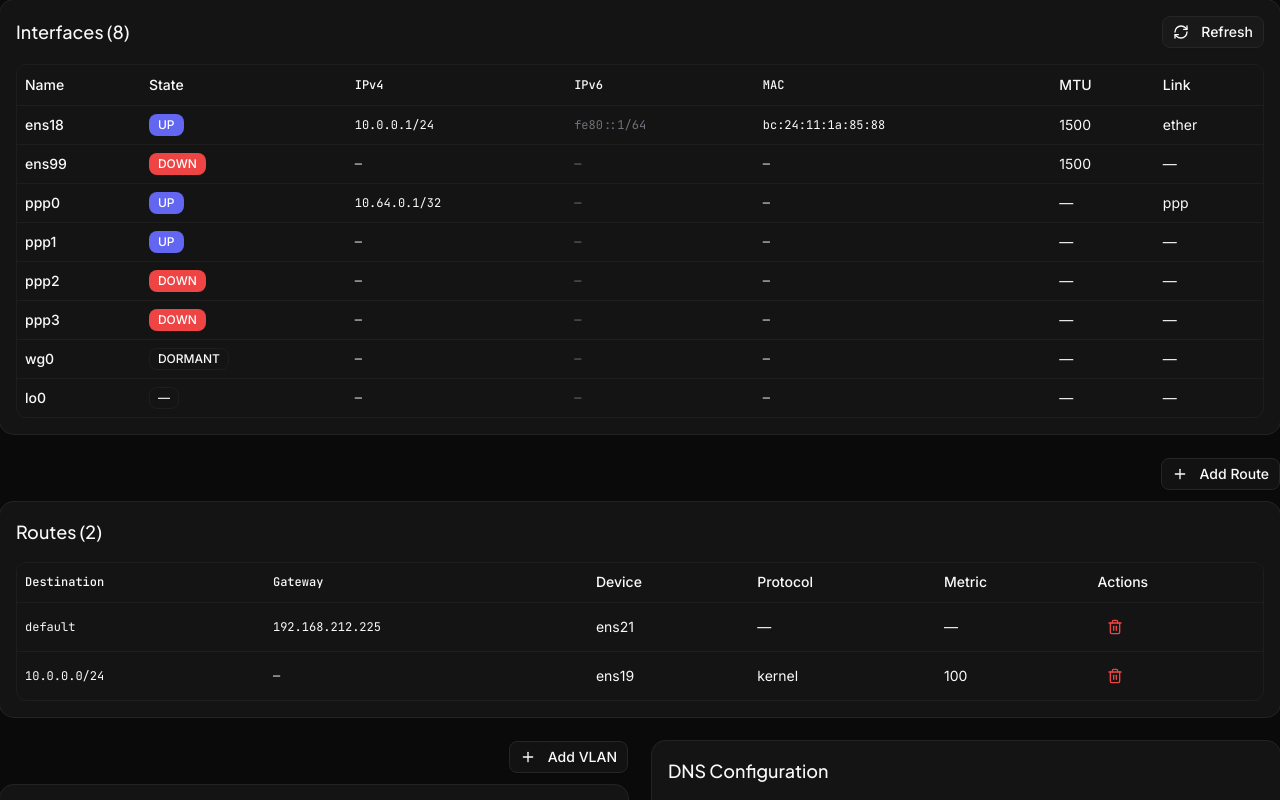
Test: NetworkPage — route CRUD › validates required destination/gateway and the optional metric
Click the button "Add Route" at {"x": 1220, "y": 474}, box [1160,458,1279,490]
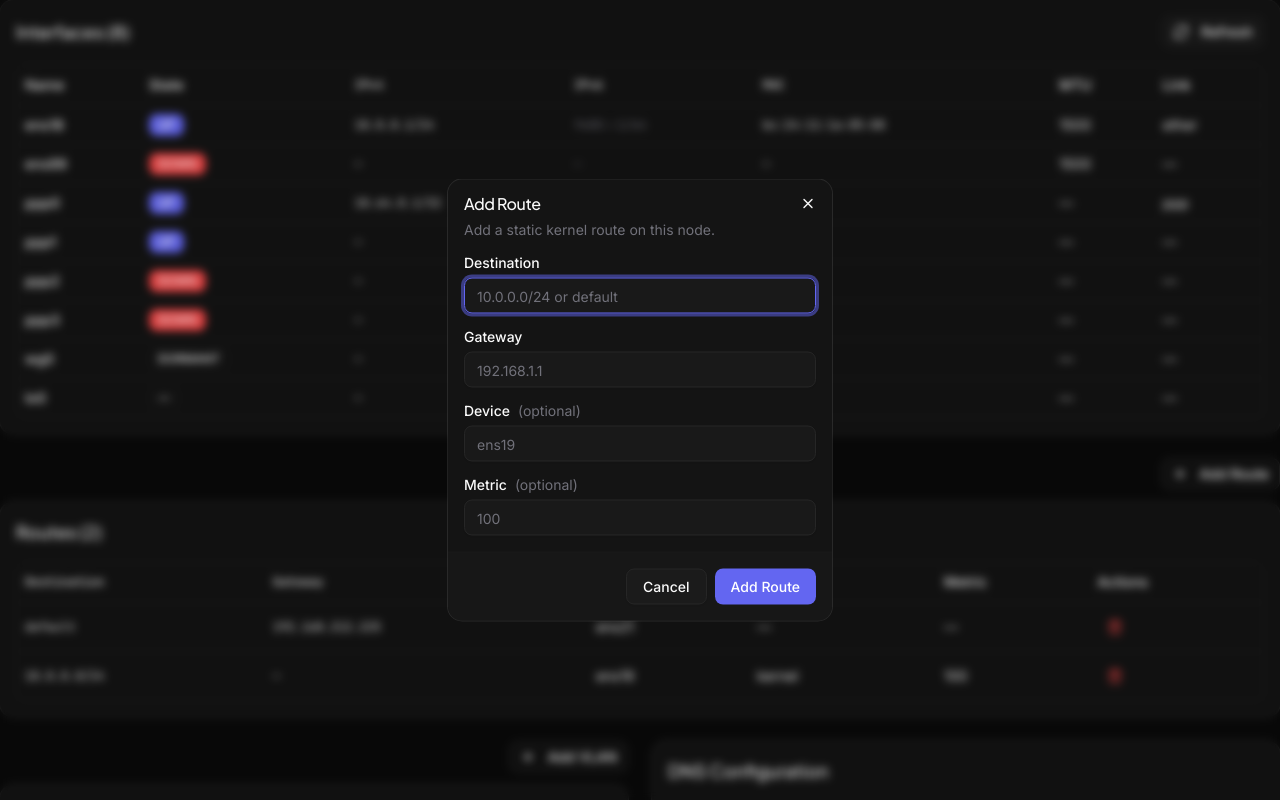
Expected: the text "Add a static kernel route on this node." is shown, [464,220,715,238]
# Both empty → first operand of the required check.
Submit the form with placeholder "10.0.0.0/24 or default", box [464,256,816,604]
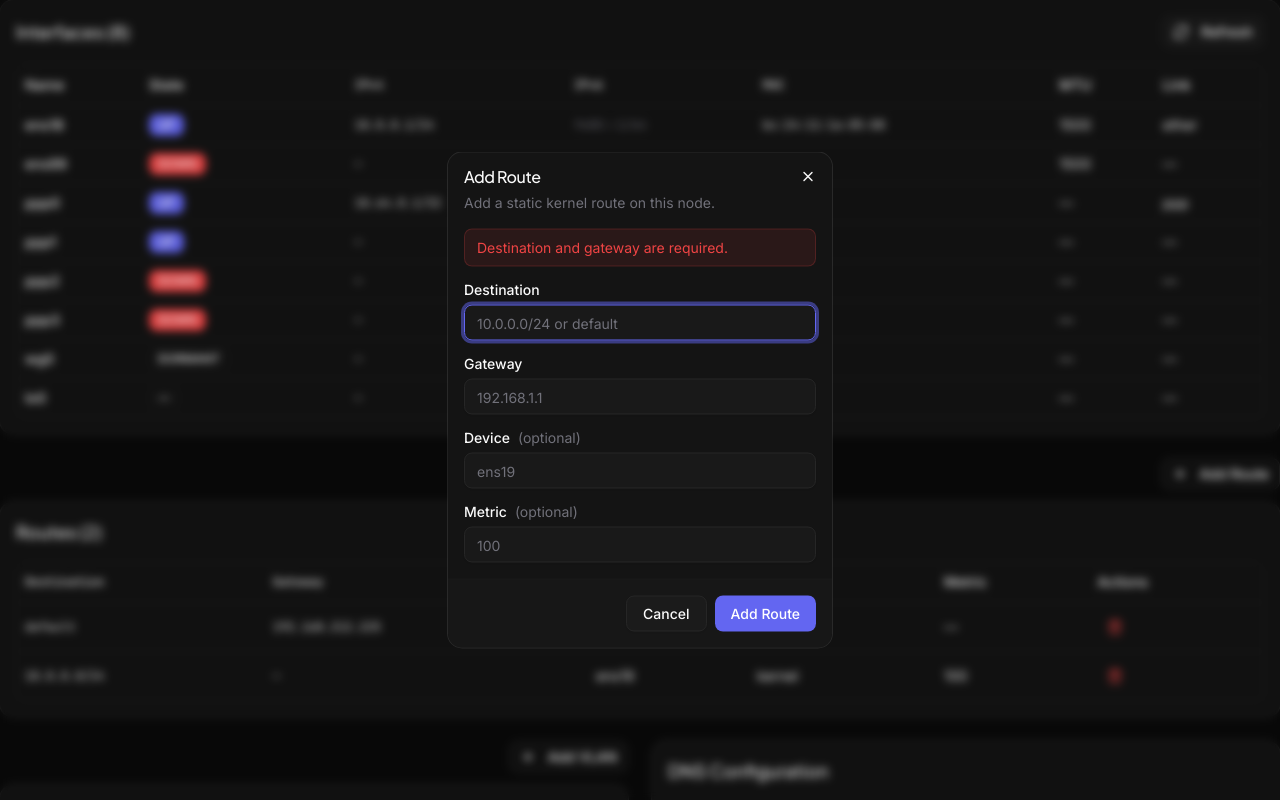
Expected: the message reads "Destination and gateway are required.", [477,238,728,256]
# Destination present, gateway empty → second operand.
Type "10.9.0.0/24" into the field with placeholder "10.0.0.0/24 or default" at {"x": 640, "y": 322}, box [464,304,816,340]
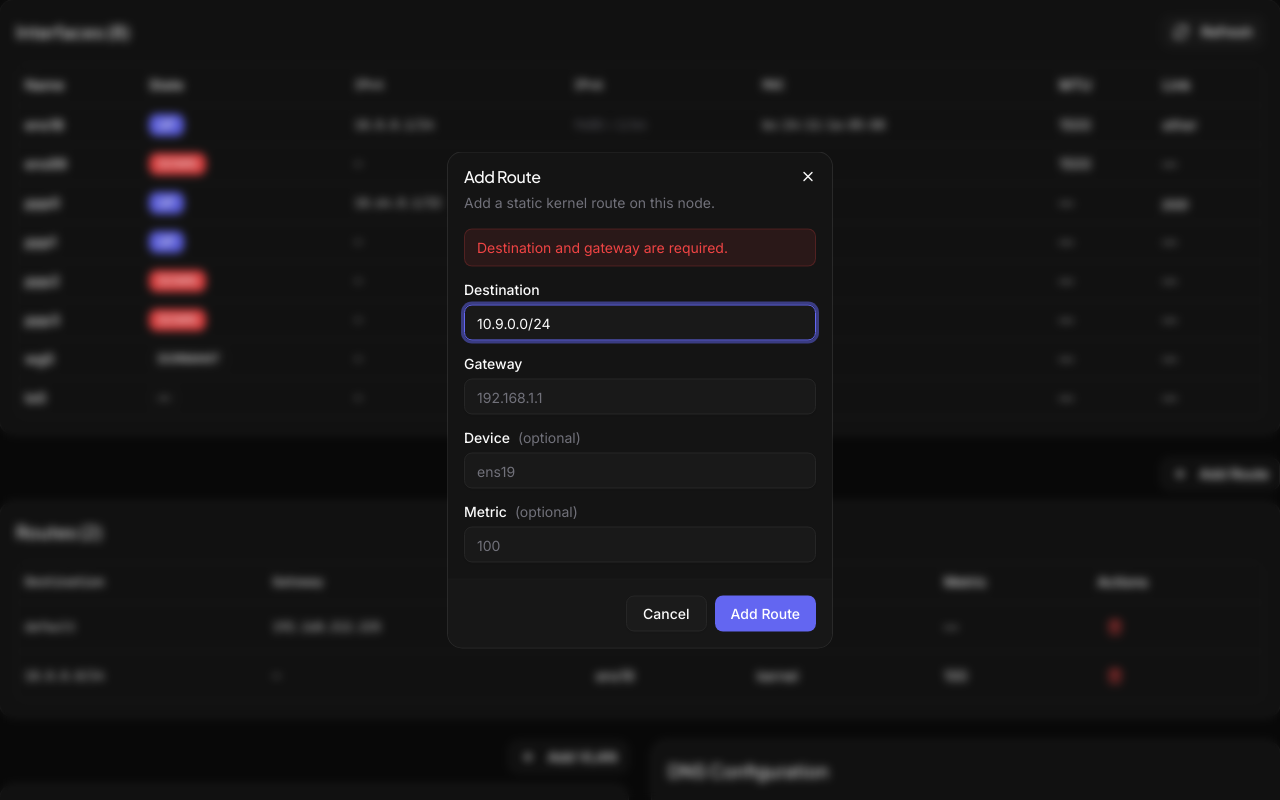
Submit the form with placeholder "10.0.0.0/24 or default", box [464,228,816,632]
Expected: the message reads "Destination and gateway are required.", [477,238,728,256]
# Non-numeric metric is rejected.
Type "10.9.0.1" into the field with placeholder "192.168.1.1" at {"x": 640, "y": 396}, box [464,378,816,414]
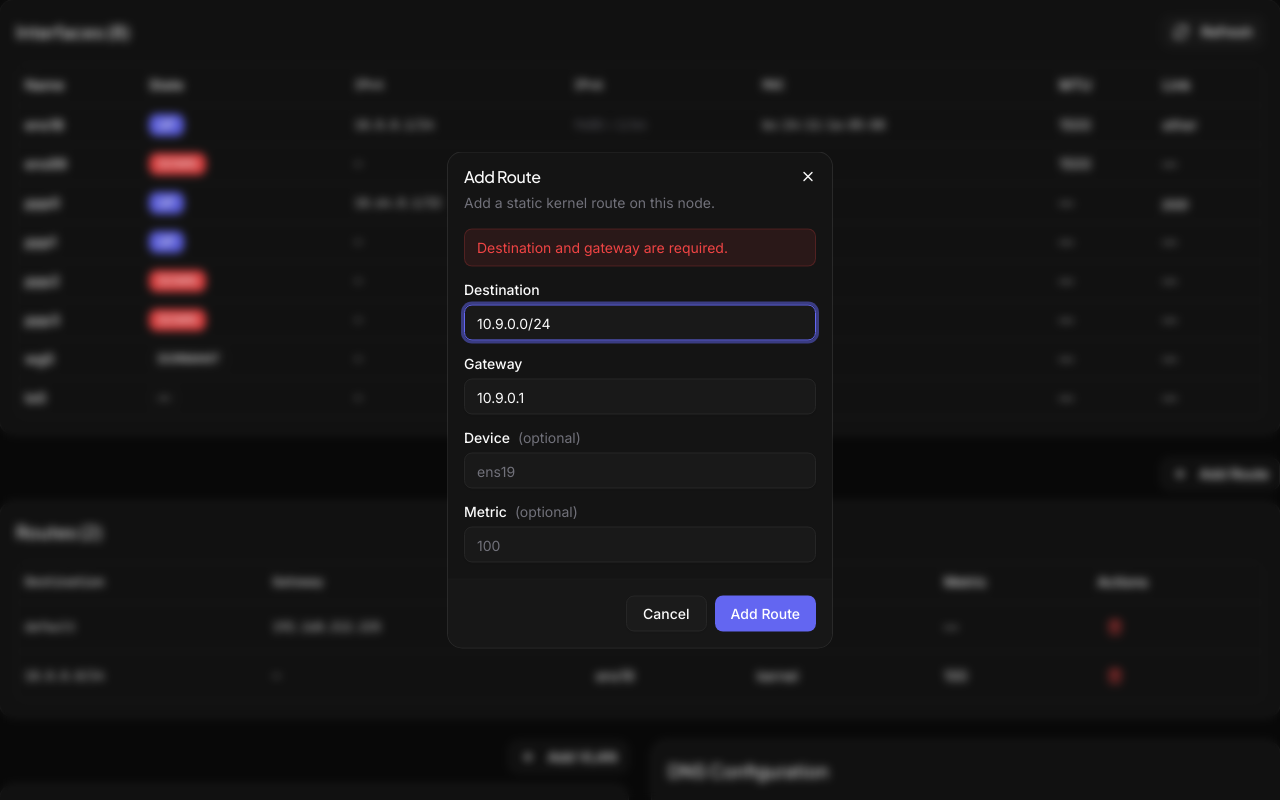
Type "abc" into the field with placeholder "100" at {"x": 640, "y": 544}, box [464,526,816,562]
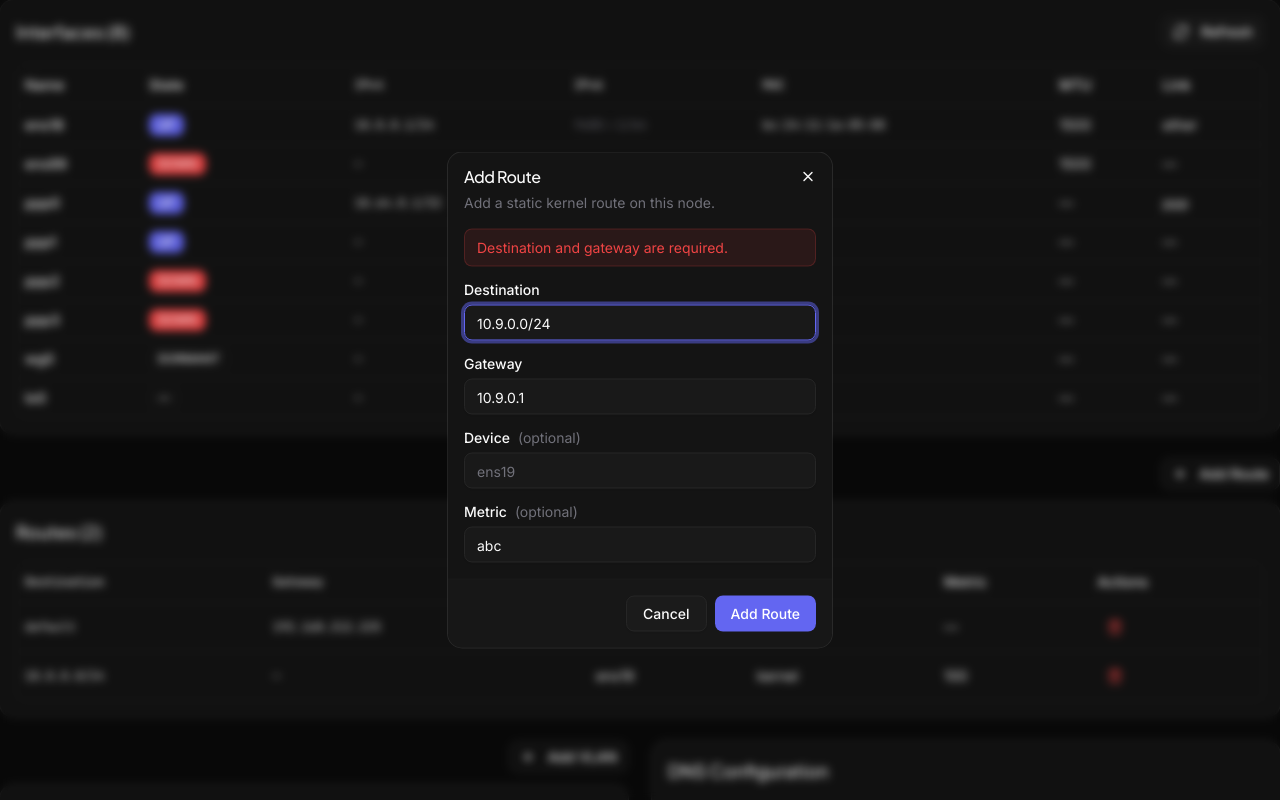
Submit the form with placeholder "10.0.0.0/24 or default", box [464,228,816,632]
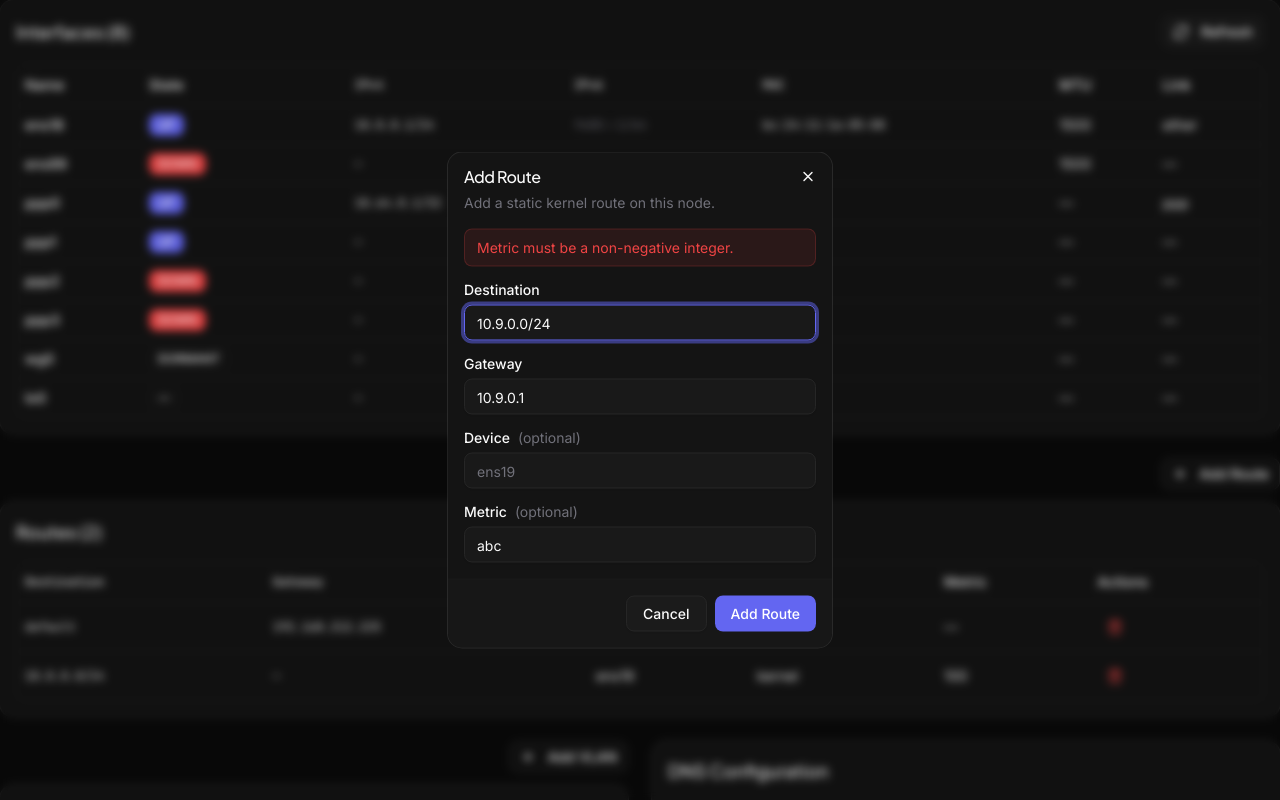
Expected: the message reads "Metric must be a non-negative integer.", [477,238,733,256]
